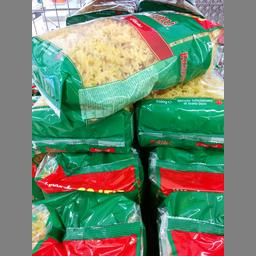pasta: (31, 6, 222, 126)
